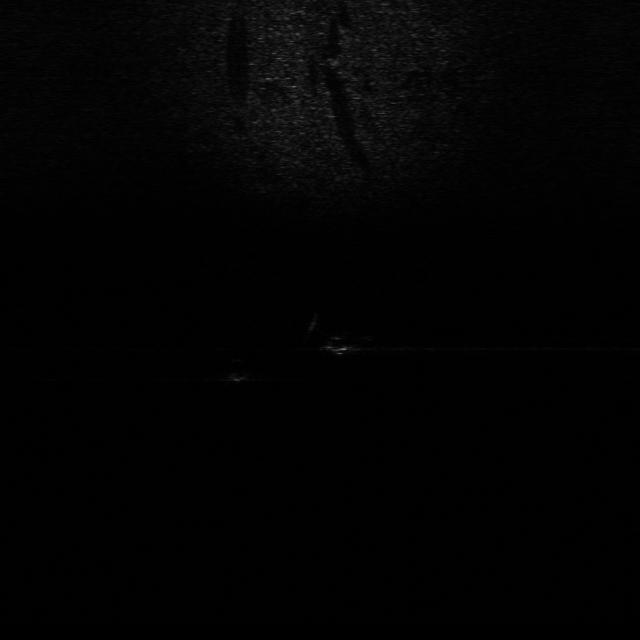ball: (223, 355, 256, 383)
human body: (302, 309, 378, 357)
